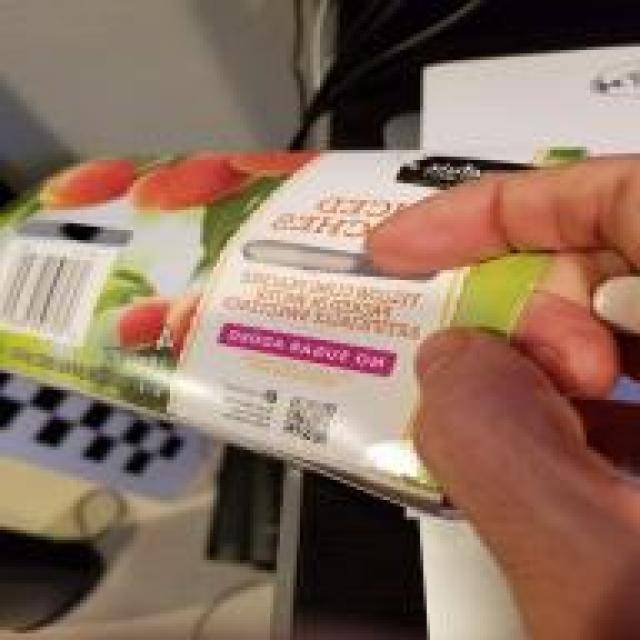QR_CODE: (275, 386, 350, 452)
